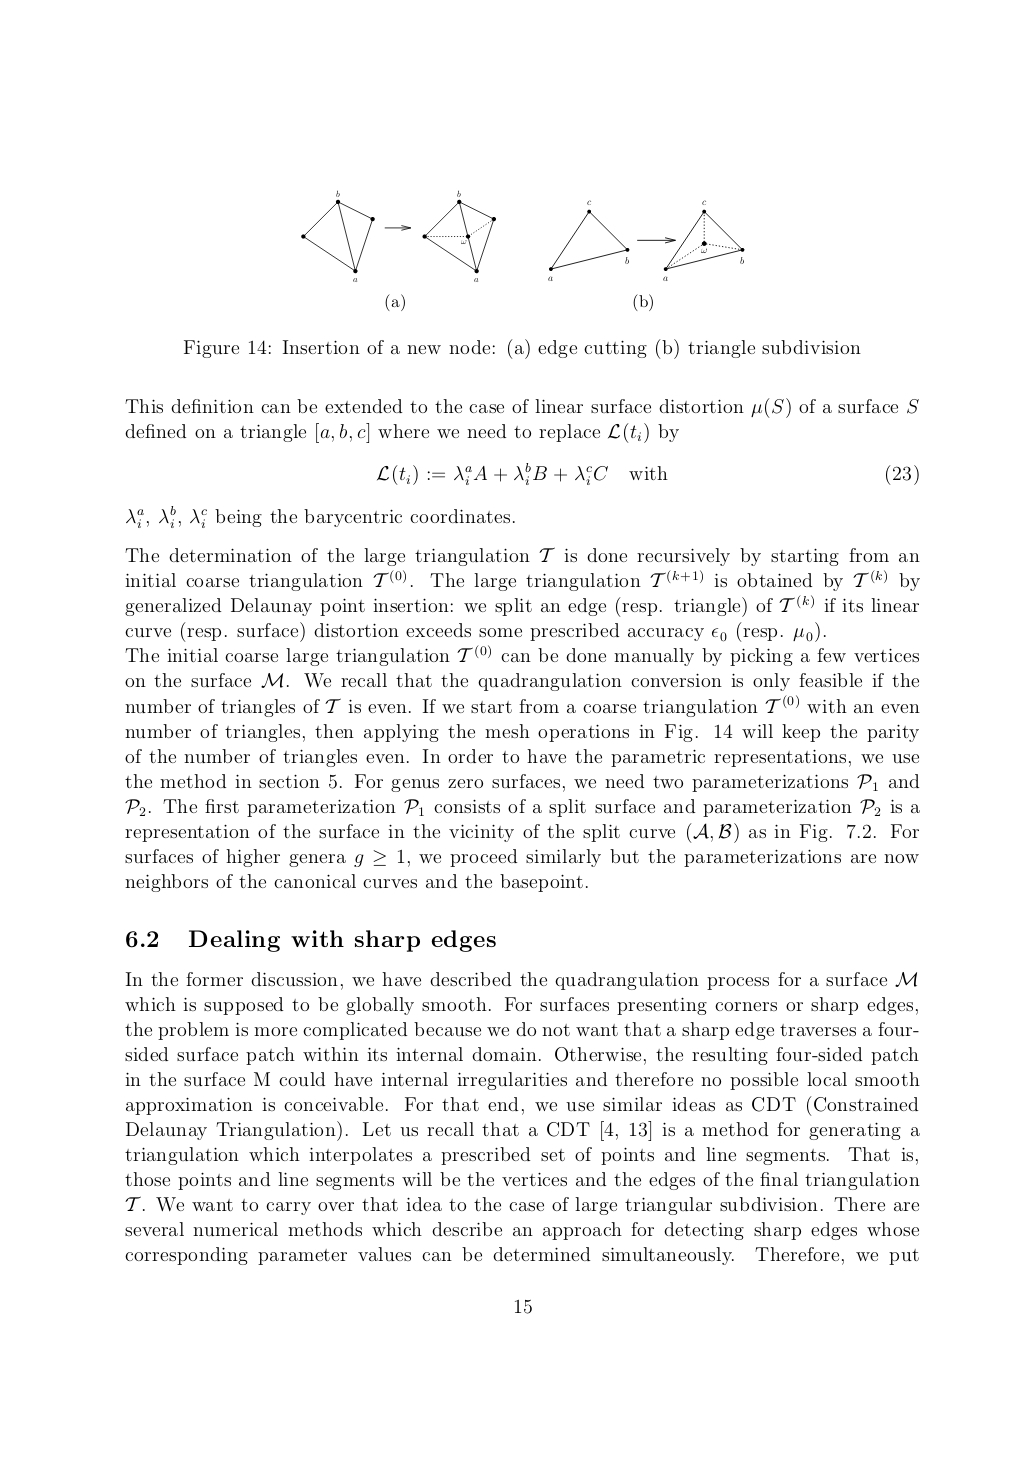figure: (301, 190, 495, 281), (548, 200, 744, 280)
formula: (376, 462, 918, 485)
